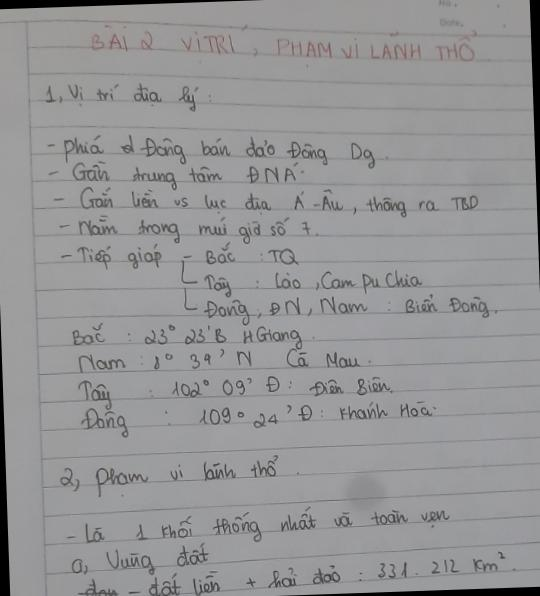text: (86, 8, 480, 78), (49, 169, 481, 232), (77, 546, 507, 596), (64, 498, 451, 552), (47, 121, 374, 182), (78, 394, 440, 442), (77, 368, 395, 412), (57, 204, 322, 252), (202, 288, 500, 330), (46, 152, 303, 198), (57, 450, 280, 502), (70, 312, 307, 358), (76, 343, 361, 380), (200, 264, 425, 302), (42, 76, 201, 120), (68, 540, 210, 582), (58, 241, 164, 274), (204, 238, 302, 270), (438, 14, 463, 30), (437, 0, 454, 9)
